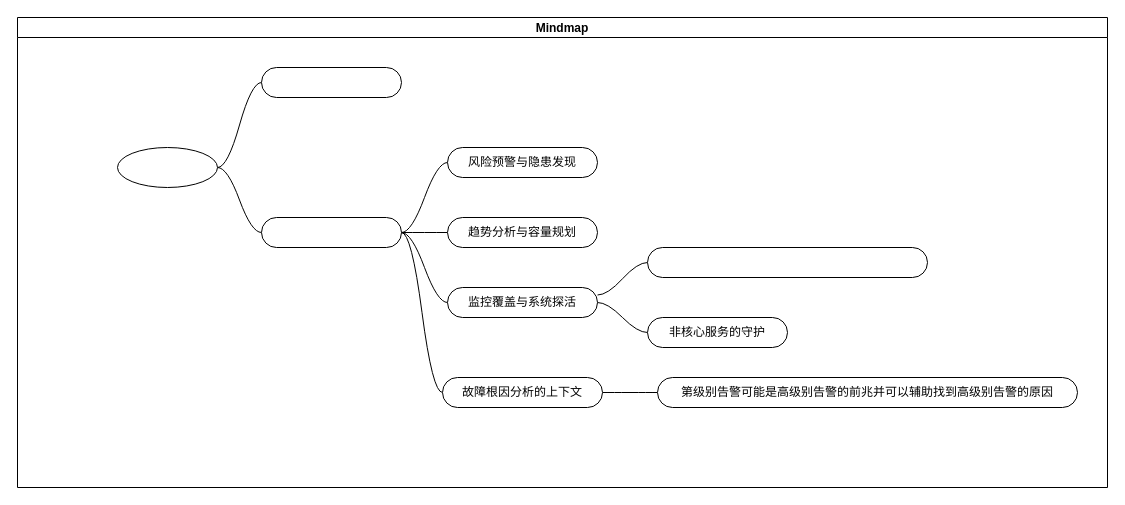
The diagram is 1125 pixels wide and 505 high, and some of its shapes have lost their labels. The shapes that lost their labels are listed below. From the top down, each one's centre as x and y in pixels, then its label:
pixel 331 82: 高级别告警的作用
pixel 167 167: 告警
pixel 331 232: 低级别告警的作用
pixel 787 262: 低级别告警的存在说明监控体系的完善度较高
